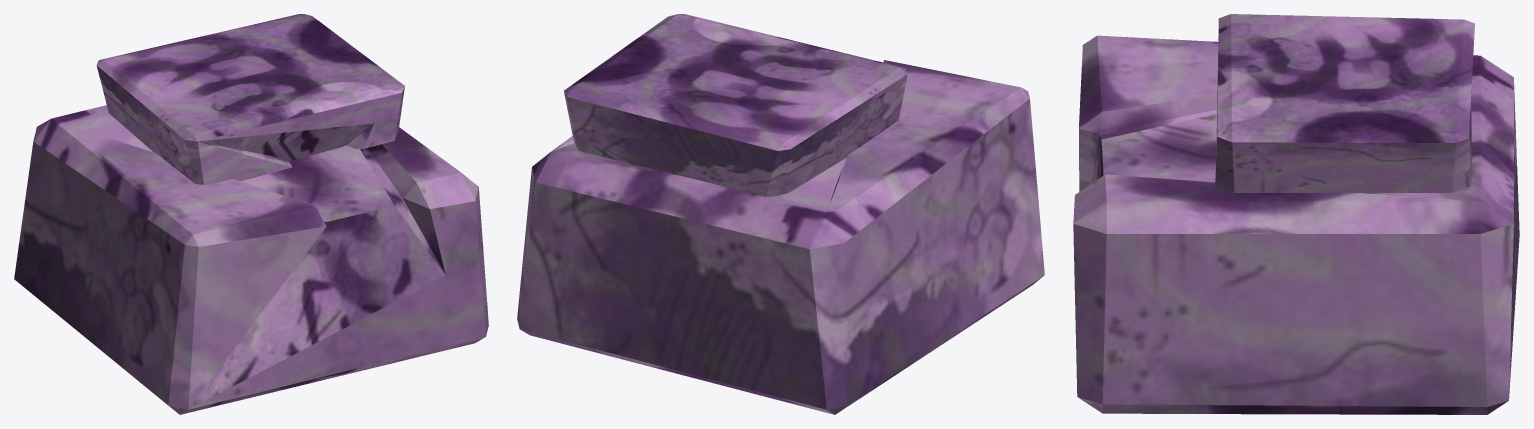
Rendered from Str_Ruins_03_Art.fbx.
3 views of the same model, side by side, from view 1: azimuth 30°, elevation 25°; view 2: azimuth 150°, elevation 25°; view 3: azimuth 270°, elevation 25° (orthographic). The views are drawn at different scales.
Parts seen in each view (by area): view 1: Str_Ruins_03; view 2: Str_Ruins_03; view 3: Str_Ruins_03.
Boxes of the visible parts, bbox=[...] form: Str_Ruins_03: bbox=[14, 14, 488, 414]; Str_Ruins_03: bbox=[517, 14, 1044, 414]; Str_Ruins_03: bbox=[1073, 14, 1519, 414].
Size of what is drawn, in the model's own units: 191 by 127 by 192.
